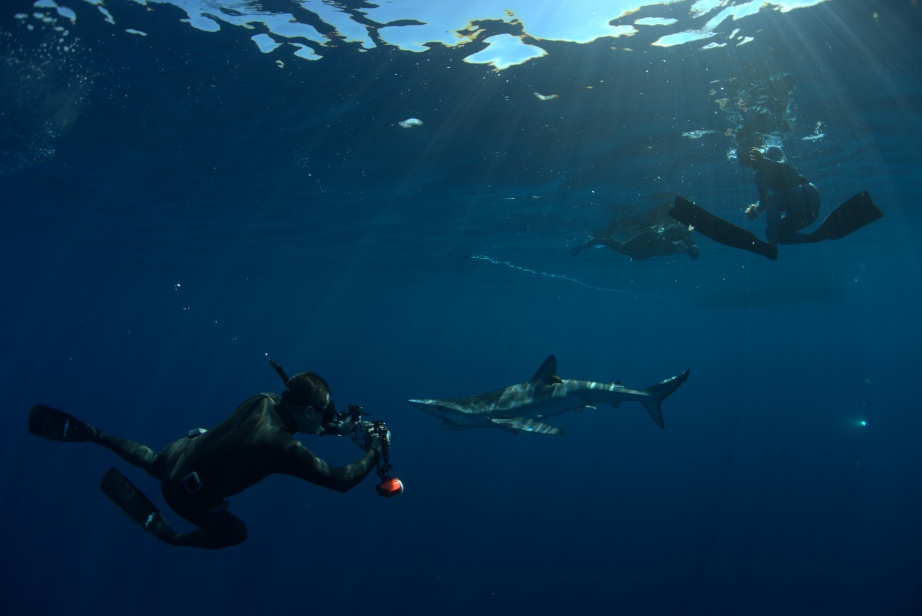Azul: (406, 340, 696, 462)
